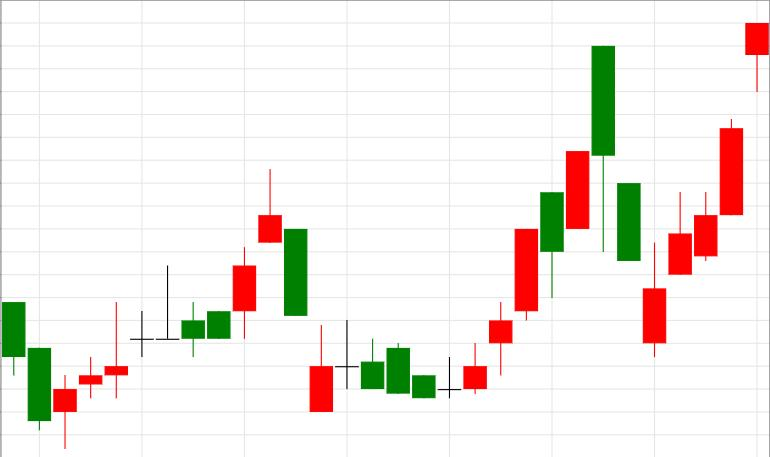hanging_man_fall: (642, 22, 770, 355)
shooting_star_fall: (54, 170, 281, 448)
